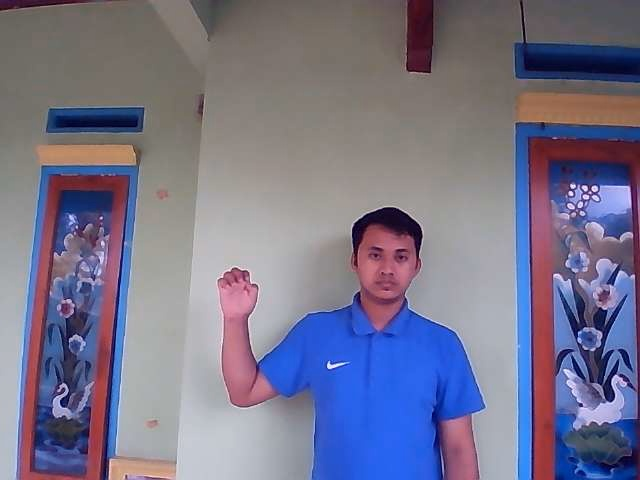E: (215, 266, 260, 321)
